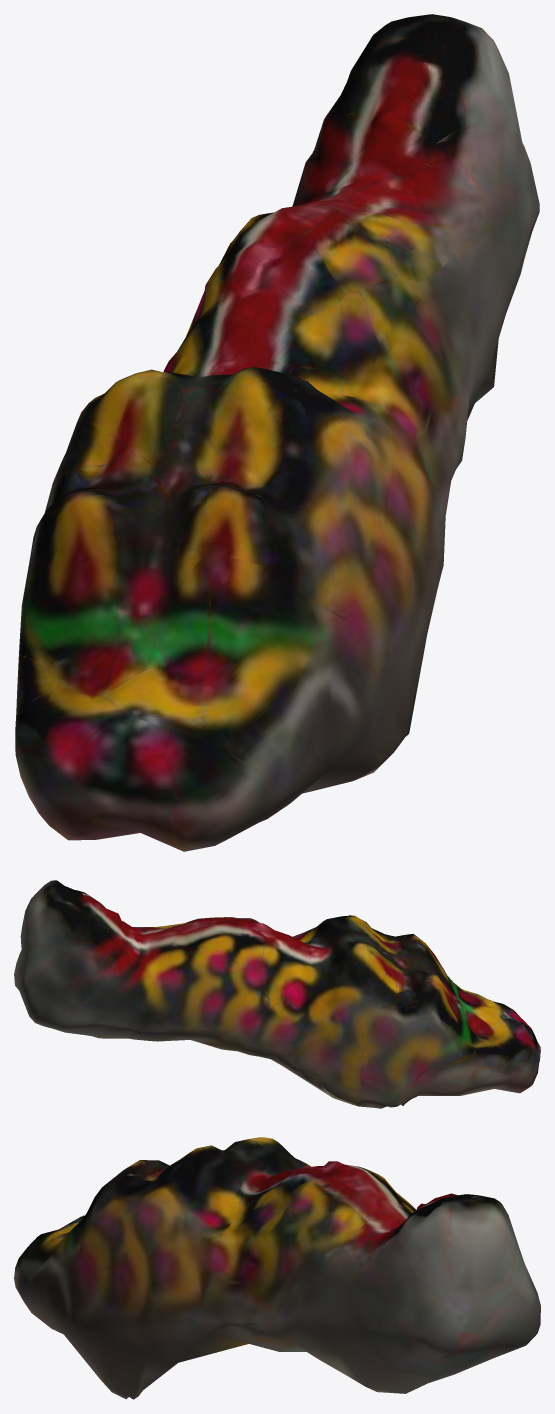
The model's file is hall.glb.
The picture shows the model from 3 angles, top to bottom: view 1: azimuth 30°, elevation 25°; view 2: azimuth 150°, elevation 25°; view 3: azimuth 270°, elevation 25°; orthographic projection. The views are drawn at different scales.
Bounding box in the file's own units: 0.7652 × 0.4515 × 0.7152.
1 material, 1 textured.
